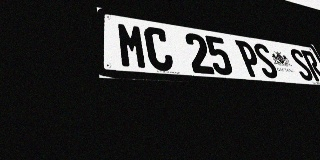2: (184, 32, 215, 74)
5: (204, 35, 235, 76)
C: (143, 26, 175, 72)
M: (116, 22, 149, 70)
P: (235, 40, 265, 78)
R: (300, 50, 320, 82)
S: (251, 42, 280, 79), (288, 48, 316, 81)
